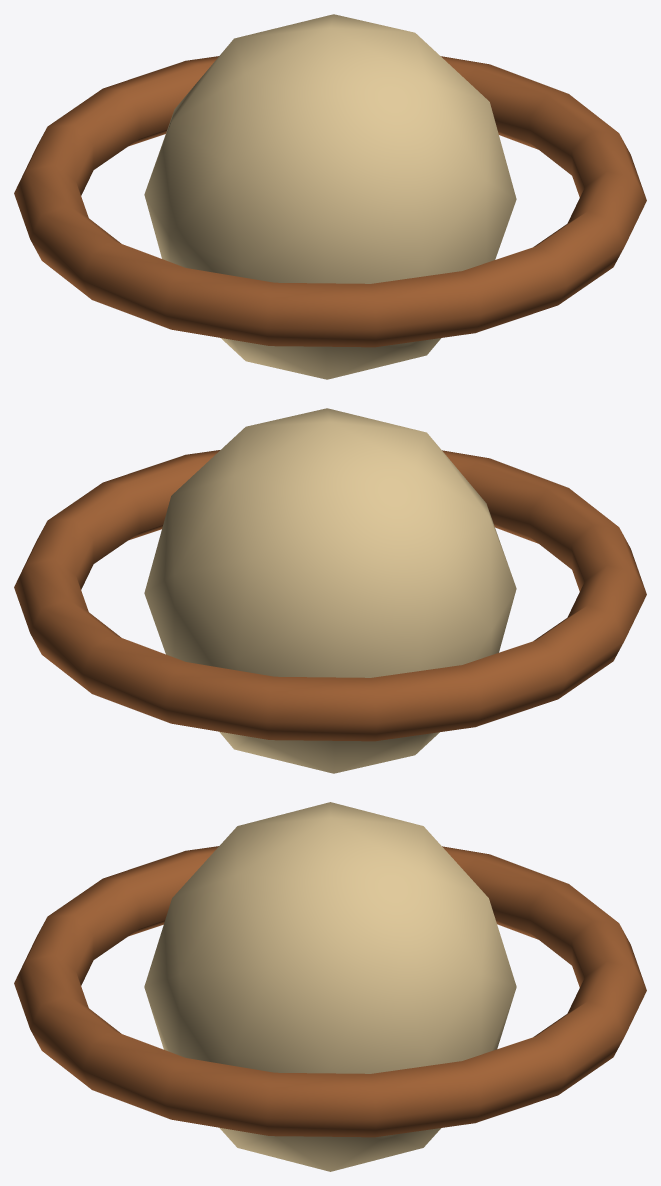
Rendered from skill.glb.
3 renders of one model, top to bottom at view 1: azimuth 30°, elevation 25°; view 2: azimuth 150°, elevation 25°; view 3: azimuth 270°, elevation 25°, orthographic.
Parts seen in each view (by area): view 1: skill_core, skill_ring; view 2: skill_core, skill_ring; view 3: skill_core, skill_ring.
Part boxes in pixels (left/top/right/bottom): skill_core: left=144, top=14, right=516, bottom=379; skill_ring: left=14, top=56, right=646, bottom=347; skill_core: left=144, top=408, right=516, bottom=773; skill_ring: left=14, top=450, right=646, bottom=741; skill_core: left=144, top=802, right=516, bottom=1171; skill_ring: left=14, top=846, right=646, bottom=1137.
Bounding box in the file's own units: 0.6726 × 0.4 × 0.6797.
